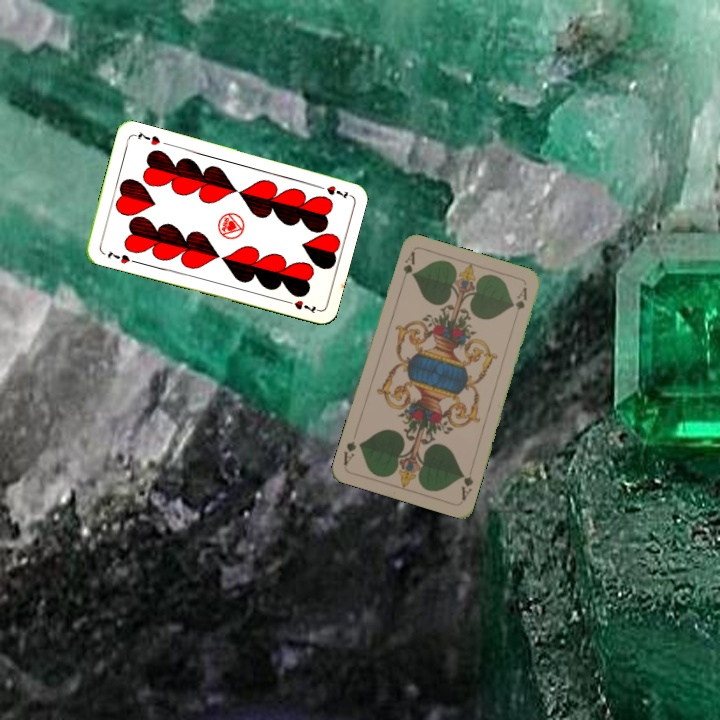GA: (457, 470, 476, 503), (399, 248, 417, 277)
H7: (312, 181, 351, 201), (103, 247, 133, 266)
